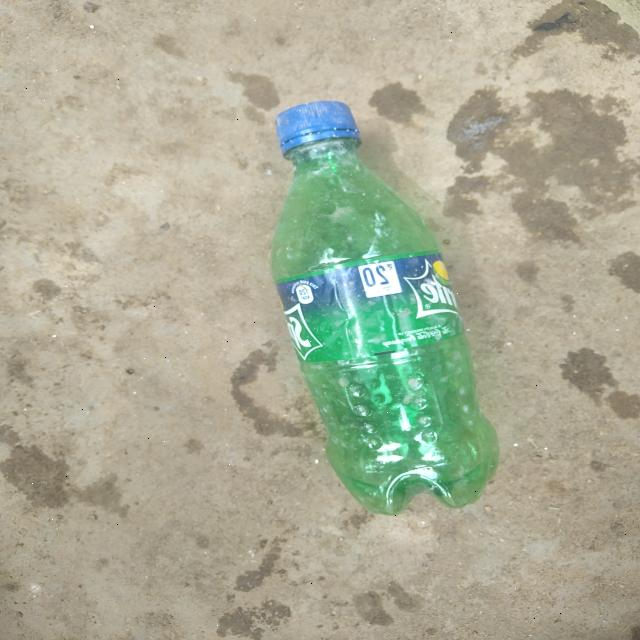plastic: (263, 94, 493, 518)
